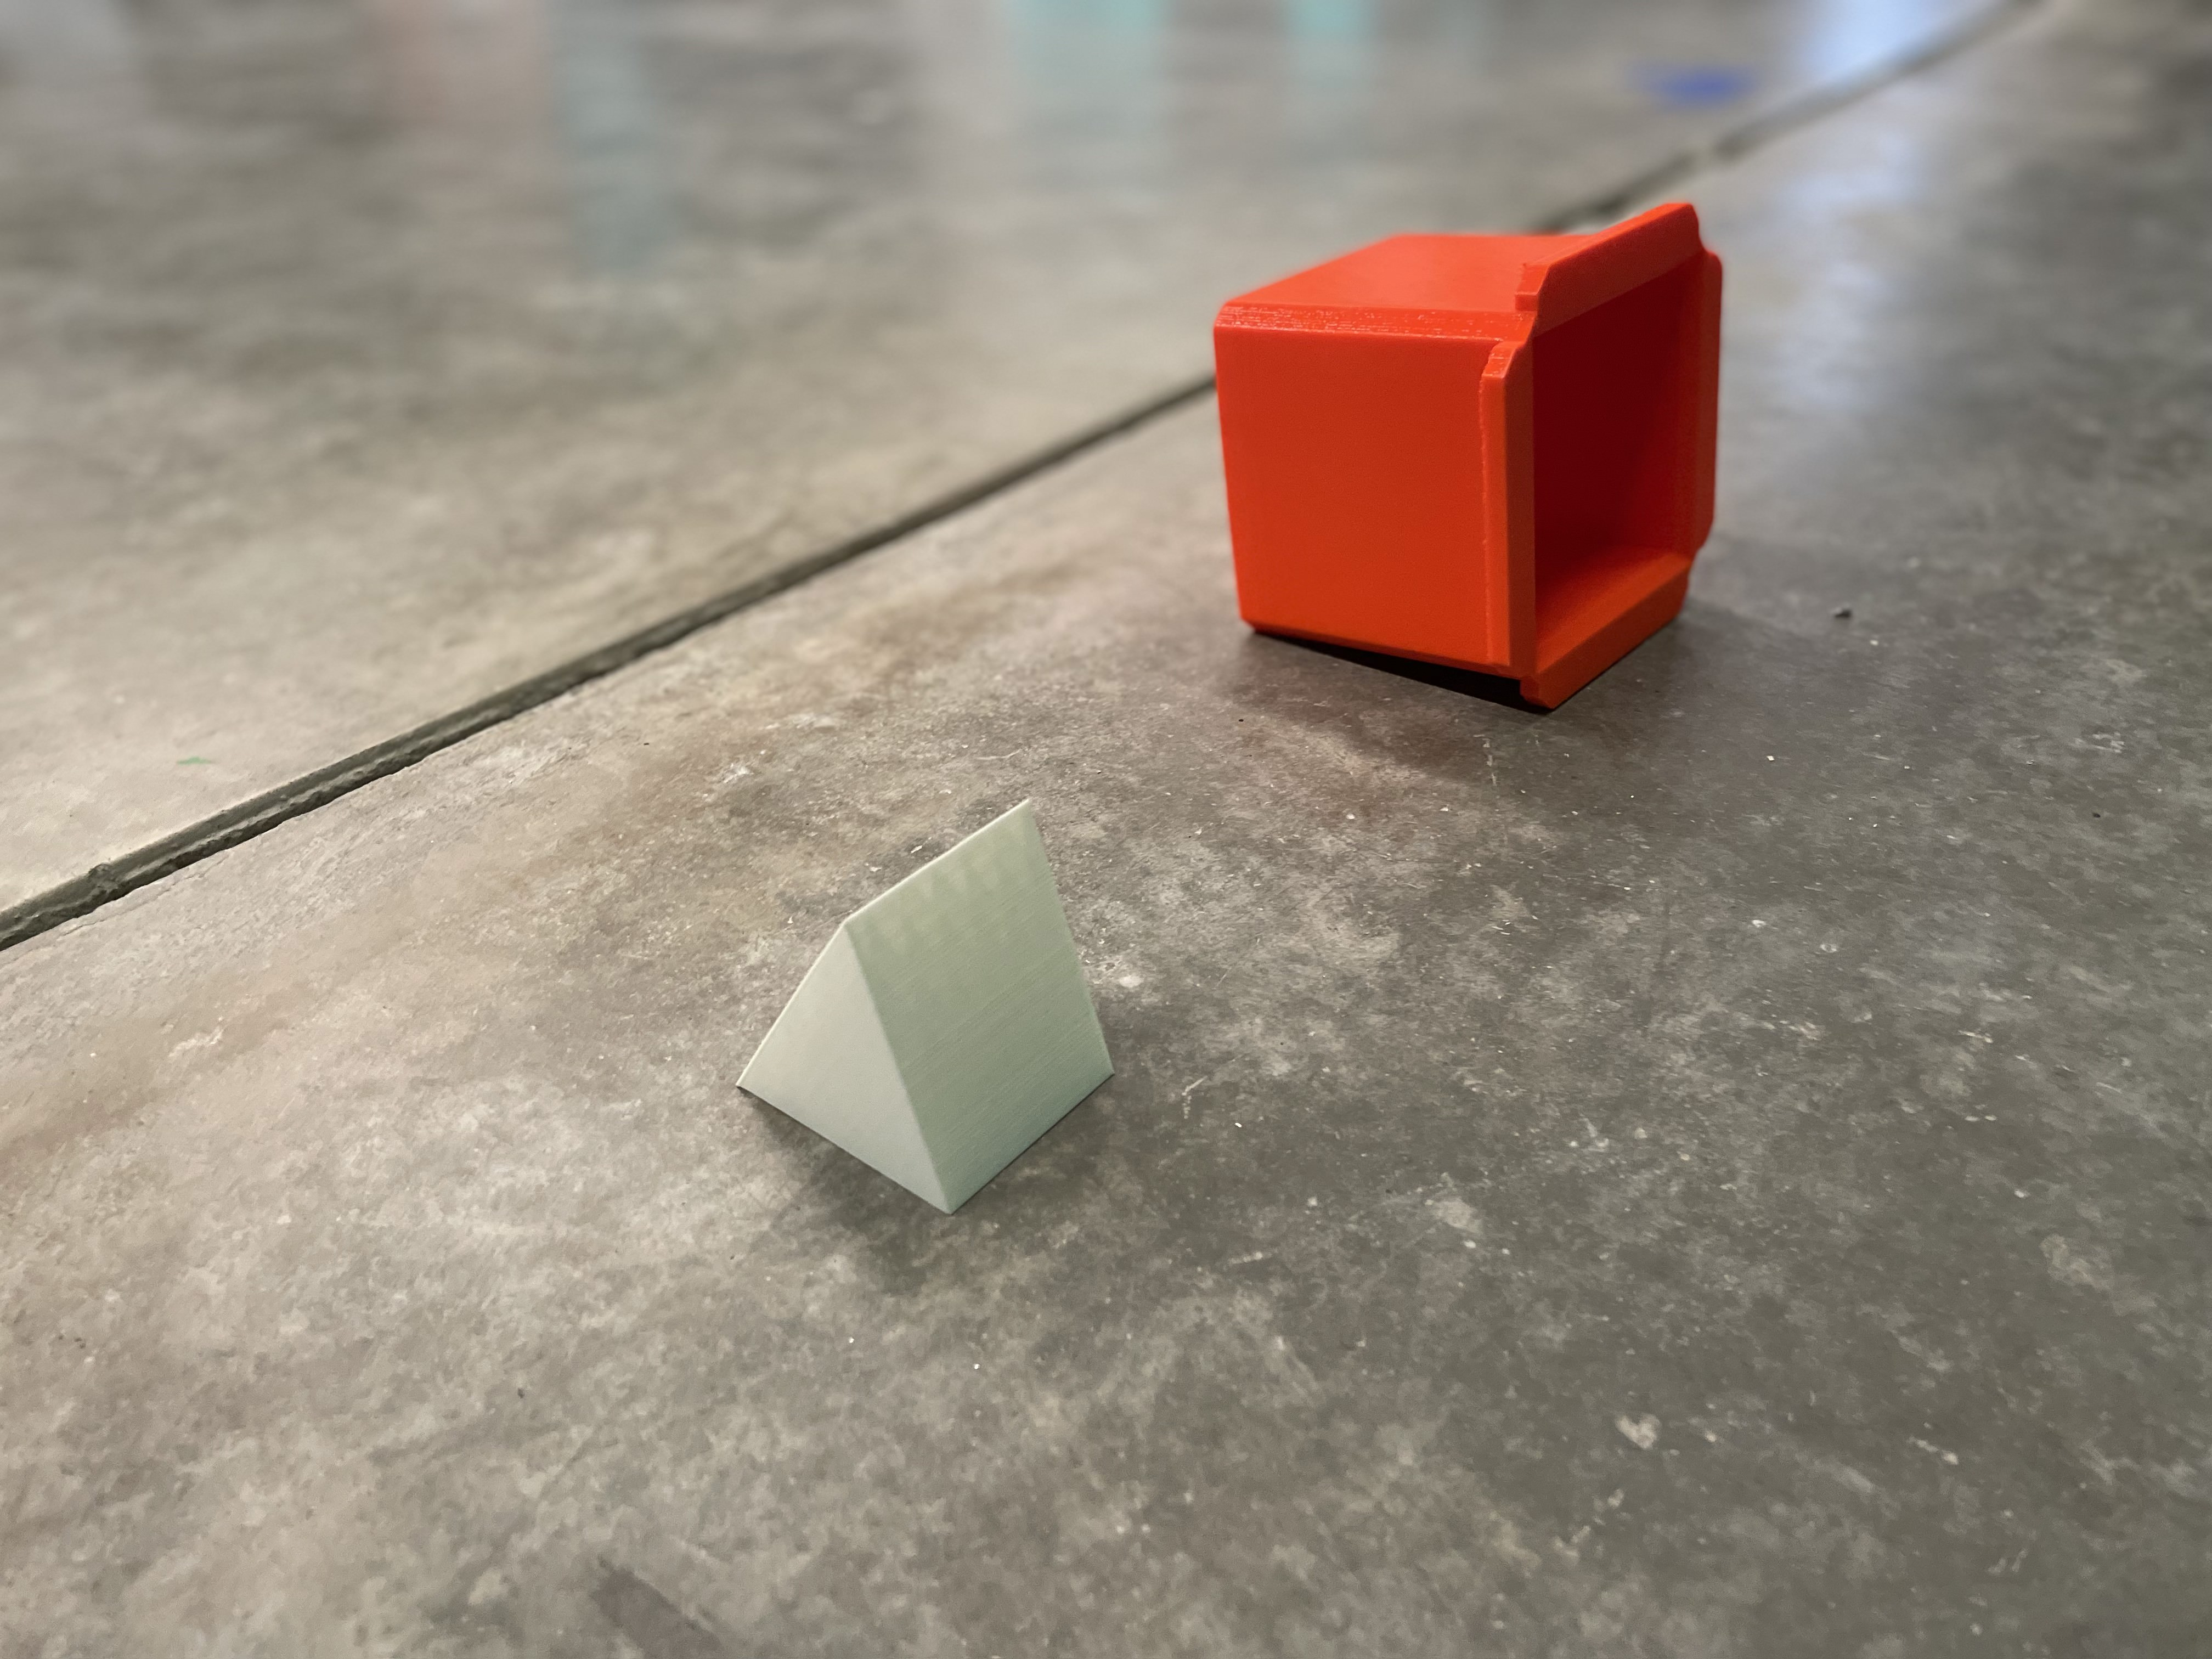payload1: (1193, 186, 1750, 727)
payload2: (733, 781, 1150, 1237)
